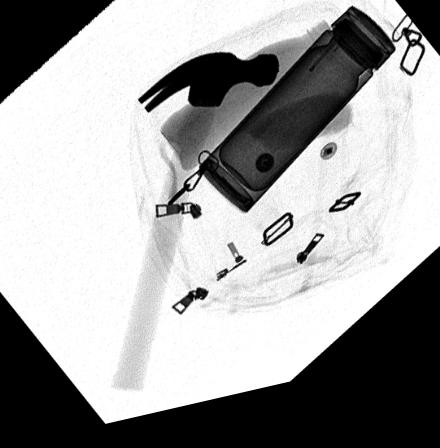Hammer: (110, 60, 280, 397)
